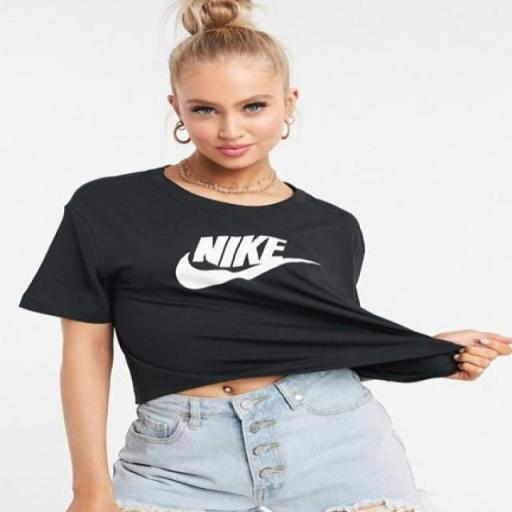Nike: (173, 257, 302, 292), (194, 236, 288, 266)
